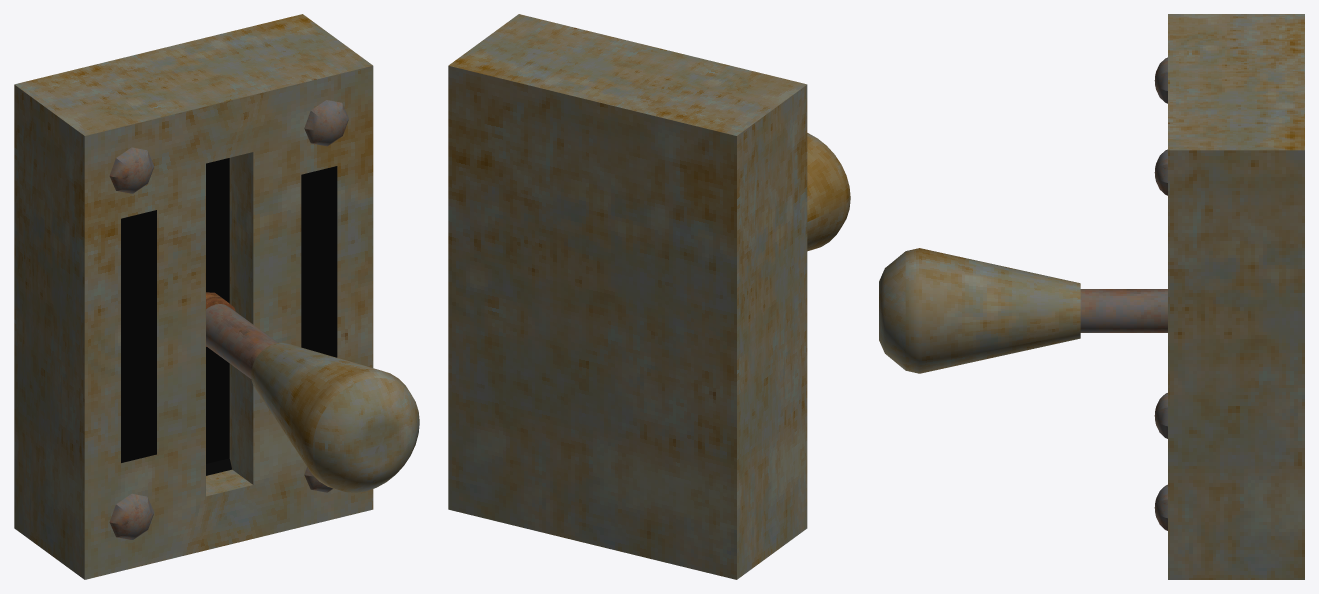
File: lever3.gltf
3 renders of one model, left to right at view 1: azimuth 30°, elevation 25°; view 2: azimuth 150°, elevation 25°; view 3: azimuth 270°, elevation 25°, orthographic. The views are drawn at different scales.
Visible parts, largest first — view 1: leverbox-col, leverhandle-col, leverbolts-col; view 2: leverbox-col, leverhandle-col; view 3: leverbox-col, leverhandle-col, leverbolts-col.
Boxes of the visible parts, x1,y1,x2,y2 form: leverbox-col: (14,14,373,579); leverhandle-col: (206,304,419,492); leverbolts-col: (109,100,348,539); leverbox-col: (448,14,807,579); leverhandle-col: (807,133,850,251); leverbox-col: (1168,14,1304,579); leverhandle-col: (879,248,1167,373); leverbolts-col: (1154,57,1167,530).
Size of the model in its own units: 0.5694 by 0.837 by 0.7515.
2 materials, 1 textured.
